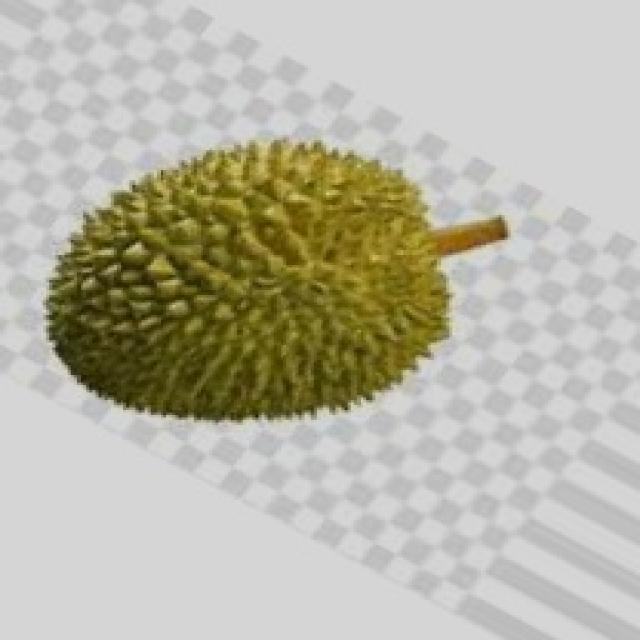fruit: (12, 95, 412, 467)
